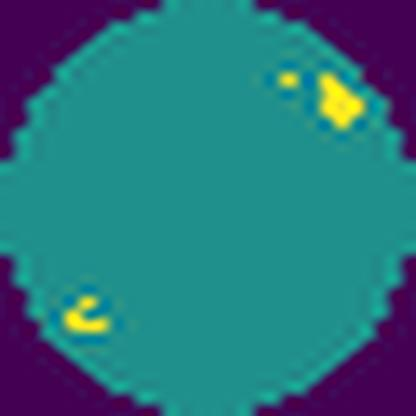Loc: (274, 61, 370, 143), (62, 282, 115, 342)
